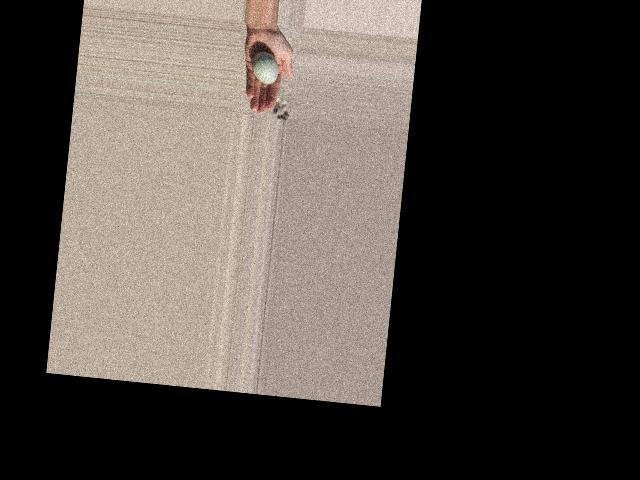egg: (249, 51, 279, 84)
